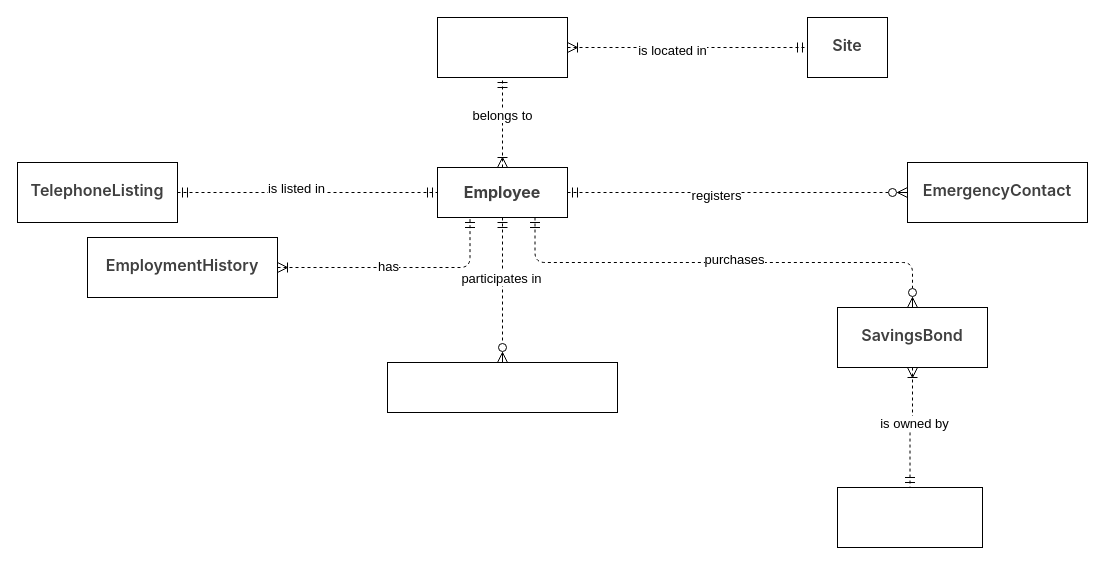
The diagram is 1105 pixels wide and 565 high, and some of its shapes have lost their labels. Here are the shapes that lost their labels. From the top down, the box of each, then its label:
(436, 16, 568, 78): Department
(386, 362, 618, 412): UnitedWayContribution
(836, 486, 982, 548): BondOwner
